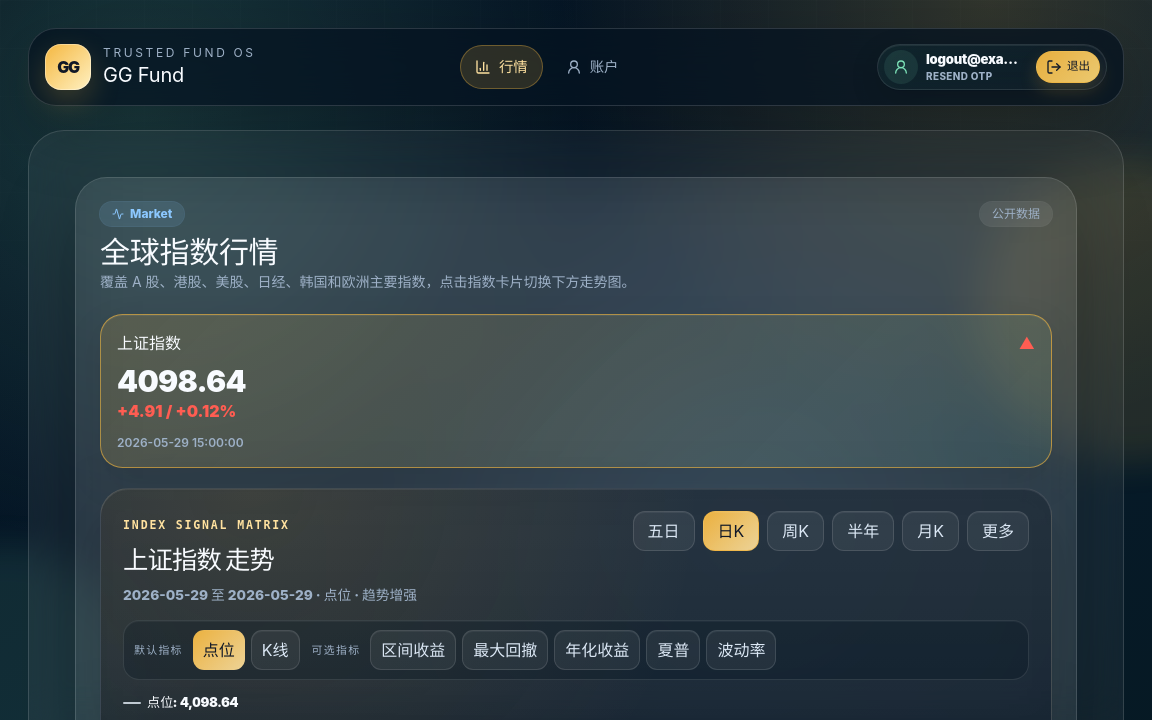
Test: App › logs out authenticated users from the header
The width and height of the screenshot is (1152, 720).
Click the button with aria-label "退出登录": (1068,67) [1036,51,1100,83]
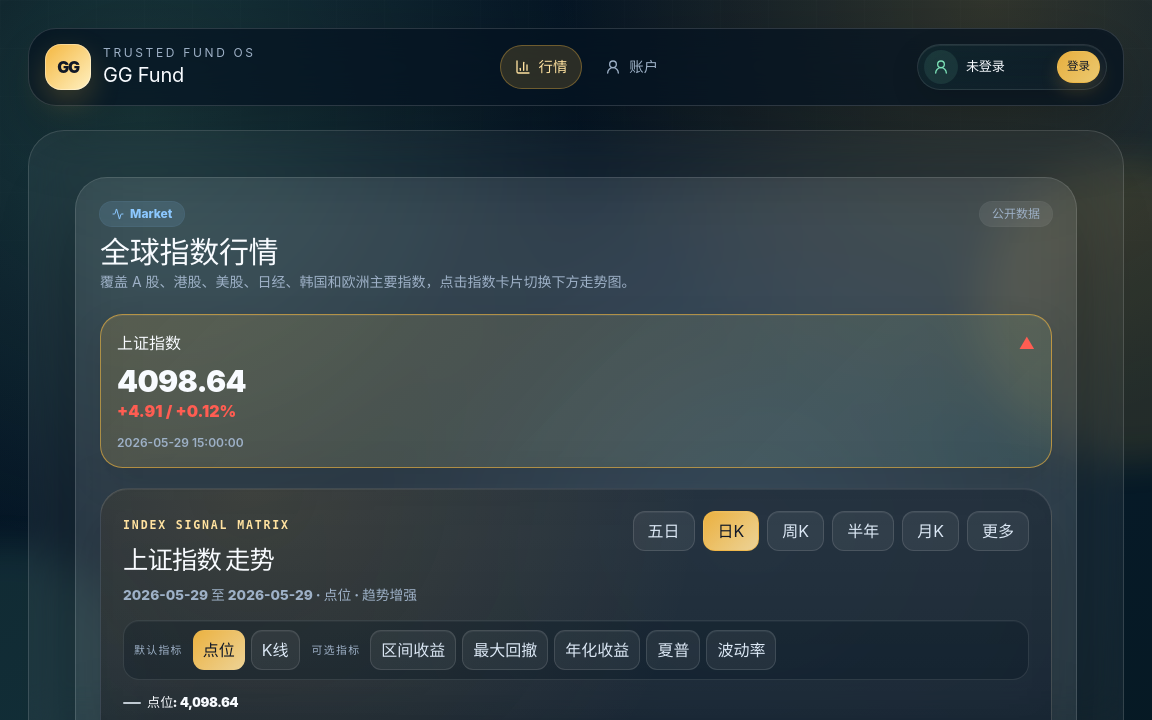
Now the text "未登录" is shown, box [966,58,1004,74]
